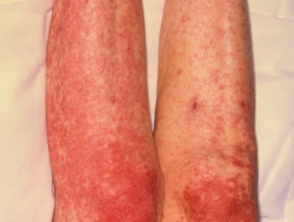SJS-TEN: (43, 0, 166, 222), (151, 0, 265, 222)
